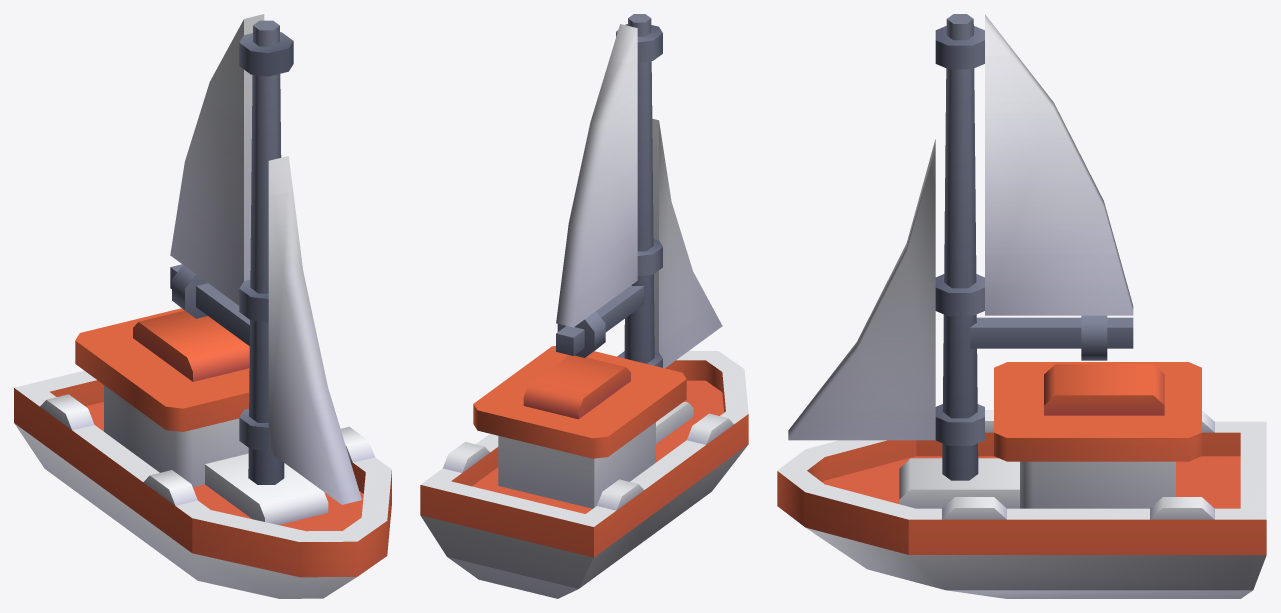
The model's file is boat-sail-a-transformed.glb.
3 views of the same model, side by side, from view 1: azimuth 30°, elevation 25°; view 2: azimuth 150°, elevation 25°; view 3: azimuth 270°, elevation 25° (orthographic). The views are drawn at different scales.
Visible parts, largest first — view 1: boat-sail-a, sail; view 2: boat-sail-a, sail; view 3: boat-sail-a, sail.
Part boxes in pixels (box(x1,y1,x2,y2)): boat-sail-a: box(14, 308, 391, 598); sail: box(170, 14, 361, 504); boat-sail-a: box(420, 346, 748, 598); sail: box(556, 14, 722, 368); boat-sail-a: box(777, 362, 1266, 598); sail: box(788, 14, 1133, 480).
Bounding box in the file's own units: 1.79 × 4.74 × 3.77.
1 material, 1 textured.
